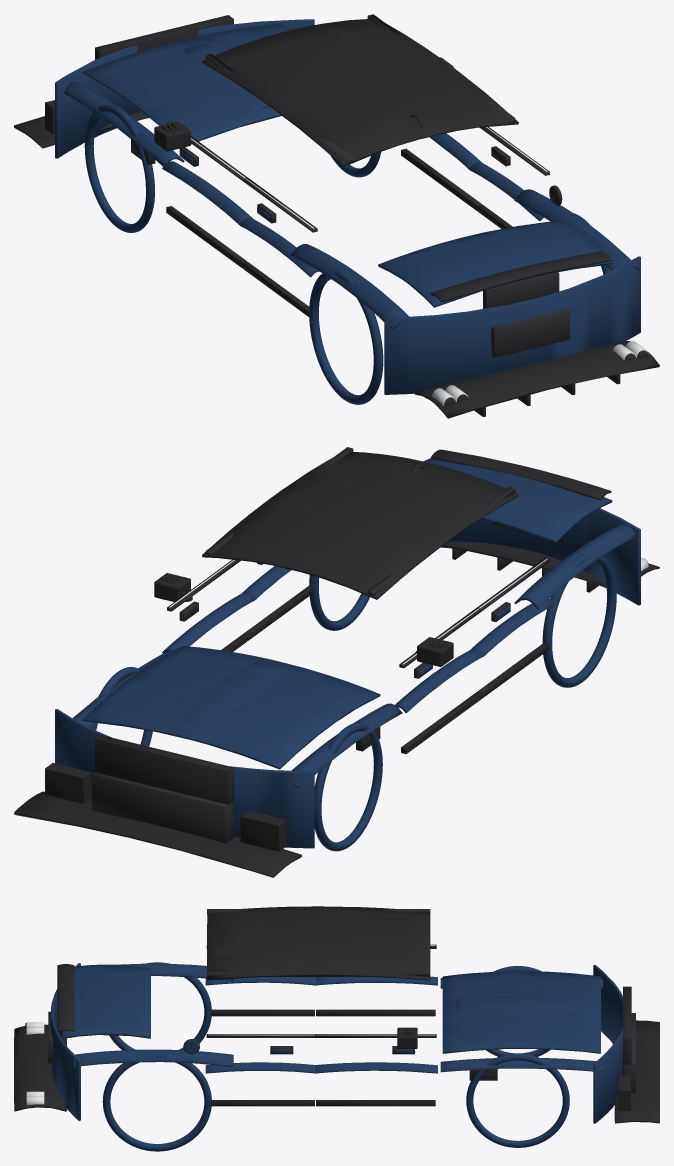
File: exterior_panels.glb
The picture shows the model from 3 angles, top to bottom: view 1: azimuth 30°, elevation 25°; view 2: azimuth 150°, elevation 25°; view 3: azimuth 270°, elevation 25°; orthographic projection. The views are drawn at different scales.
Parts seen in each view (by area): view 1: ROOF_SKIN_CARBON, BODY_BUMPER_REAR, BODY_HOOD_OUTER, TRUNK_DECKLID_SHELL, REAR_BUMPER_DIFFUSER_TRAY, BODY_BUMPER_FRONT, REAR_ARCH_LIP_RIGHT, FENDER_ARCH_LIP_RIGHT, REAR_LICENSE_WELL, REAR_QUARTER_HAUNCH_RIGHT, TRUNK_DUCKTAIL_CARBON, REAR_QUARTER_HAUNCH_LEFT (+13 smaller); view 2: ROOF_SKIN_CARBON, BODY_HOOD_OUTER, BODY_BUMPER_FRONT, BUMPER_FRONT_SPLITTER_LIP, BUMPER_CENTER_AIR_DAM, GRILLE_SURROUND_BEZEL, BODY_BUMPER_REAR, TRUNK_DECKLID_SHELL, HOOD_POWER_BULGE, REAR_ARCH_LIP_RIGHT, FENDER_ARCH_LIP_RIGHT, REAR_QUARTER_HAUNCH_RIGHT (+15 smaller); view 3: ROOF_SKIN_CARBON, BODY_HOOD_OUTER, TRUNK_DECKLID_SHELL, BODY_BUMPER_FRONT, REAR_BUMPER_DIFFUSER_TRAY, BUMPER_FRONT_SPLITTER_LIP, REAR_ARCH_LIP_LEFT, FENDER_ARCH_LIP_LEFT, BODY_BUMPER_REAR, REAR_QUARTER_HAUNCH_LEFT, HOOD_POWER_BULGE, FENDER_SKIN_LEFT (+19 smaller).
Boxes of the visible parts, x1,y1,x2,y2 form: ROOF_SKIN_CARBON: [202, 19, 518, 166]; BODY_BUMPER_REAR: [384, 256, 640, 394]; BODY_HOOD_OUTER: [82, 24, 291, 144]; TRUNK_DECKLID_SHELL: [378, 221, 612, 307]; REAR_BUMPER_DIFFUSER_TRAY: [414, 341, 659, 418]; BODY_BUMPER_FRONT: [55, 19, 314, 158]; REAR_ARCH_LIP_RIGHT: [309, 270, 383, 404]; FENDER_ARCH_LIP_RIGHT: [84, 104, 154, 232]; REAR_LICENSE_WELL: [491, 308, 569, 357]; REAR_QUARTER_HAUNCH_RIGHT: [291, 244, 408, 329]; TRUNK_DUCKTAIL_CARBON: [430, 251, 611, 302]; REAR_QUARTER_HAUNCH_LEFT: [514, 189, 639, 270]; ROOF_SKIN_CARBON: [202, 452, 518, 599]; BODY_HOOD_OUTER: [82, 646, 380, 769]; BODY_BUMPER_FRONT: [55, 709, 314, 848]; BUMPER_FRONT_SPLITTER_LIP: [14, 791, 301, 877]; BUMPER_CENTER_AIR_DAM: [92, 772, 233, 843]; GRILLE_SURROUND_BEZEL: [95, 735, 233, 813]; BODY_BUMPER_REAR: [440, 508, 640, 605]; TRUNK_DECKLID_SHELL: [423, 458, 612, 543]; HOOD_POWER_BULGE: [182, 662, 290, 725]; REAR_ARCH_LIP_RIGHT: [542, 553, 616, 687]; FENDER_ARCH_LIP_RIGHT: [314, 722, 382, 851]; REAR_QUARTER_HAUNCH_RIGHT: [514, 523, 635, 609]; ROOF_SKIN_CARBON: [207, 906, 430, 980]; BODY_HOOD_OUTER: [442, 971, 600, 1053]; TRUNK_DECKLID_SHELL: [62, 964, 150, 1038]; BODY_BUMPER_FRONT: [593, 965, 623, 1123]; REAR_BUMPER_DIFFUSER_TRAY: [14, 1024, 66, 1111]; BUMPER_FRONT_SPLITTER_LIP: [614, 1020, 659, 1123]; REAR_ARCH_LIP_LEFT: [102, 1052, 211, 1151]; FENDER_ARCH_LIP_LEFT: [466, 1053, 569, 1147]; BODY_BUMPER_REAR: [50, 963, 80, 1120]; REAR_QUARTER_HAUNCH_LEFT: [73, 1049, 233, 1066]; HOOD_POWER_BULGE: [456, 996, 580, 1013]; FENDER_SKIN_LEFT: [440, 1058, 602, 1072].
Bounding box in the file's own units: 2.06 × 1.52 × 5.09.
